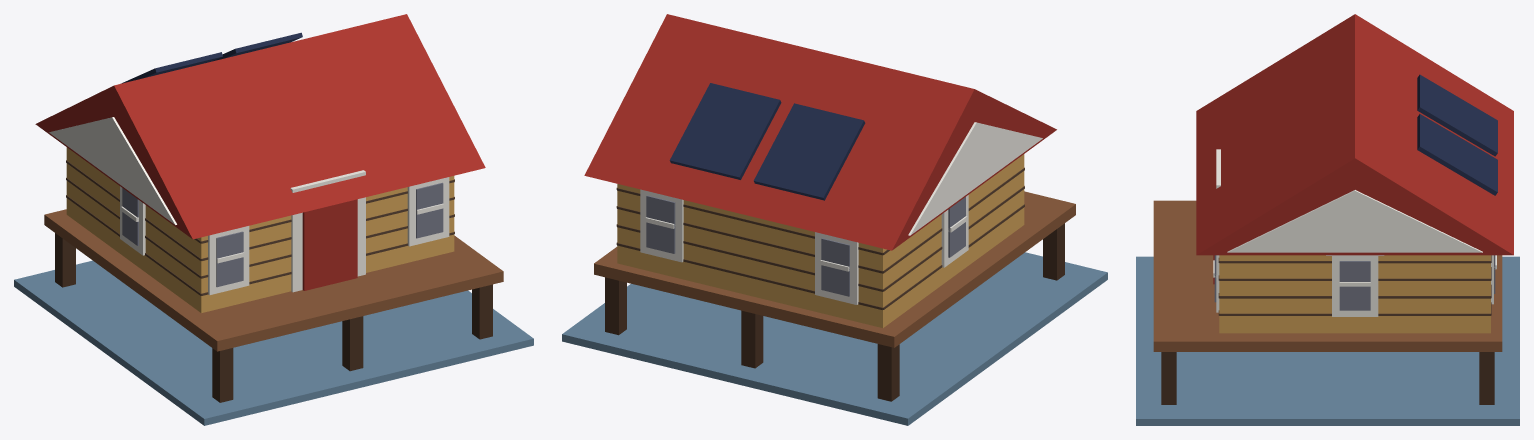
Rendered from house-1x1-1f-palafito-a-solar.glb.
3 renders of one model, left to right at view 1: azimuth 30°, elevation 25°; view 2: azimuth 150°, elevation 25°; view 3: azimuth 270°, elevation 25°, orthographic. The views are drawn at different scales.
Parts seen in each view (by area): view 1: house-1x1-1f-palafito-a-solar; view 2: house-1x1-1f-palafito-a-solar; view 3: house-1x1-1f-palafito-a-solar.
Boxes of the visible parts, x1,y1,x2,y2 form: house-1x1-1f-palafito-a-solar: [14, 14, 533, 425]; house-1x1-1f-palafito-a-solar: [562, 14, 1107, 425]; house-1x1-1f-palafito-a-solar: [1136, 14, 1519, 425].
Size of the model in its own units: 0.99 by 0.7365 by 0.99.
Materials: 1 (1 with a texture image).
